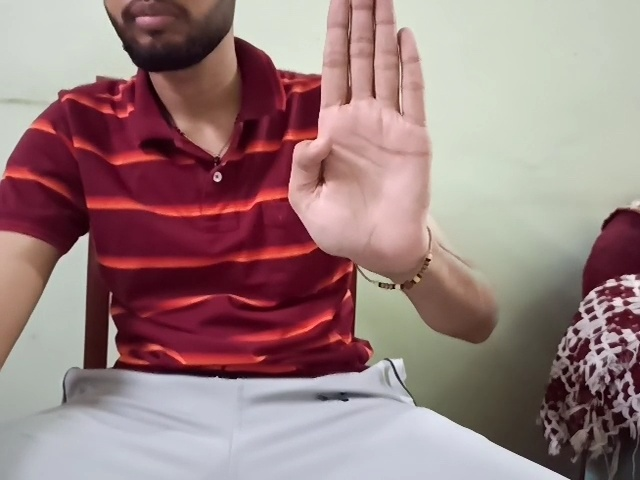B: (286, 1, 431, 284)
